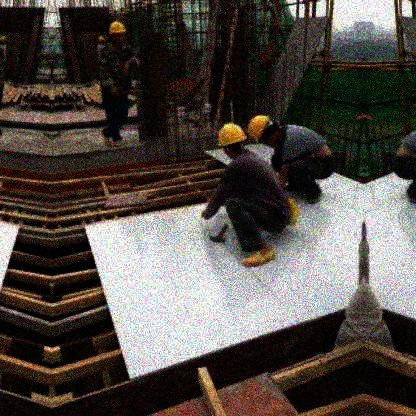helmet: (247, 114, 283, 147), (216, 122, 247, 157), (108, 20, 127, 44), (98, 35, 105, 44)
